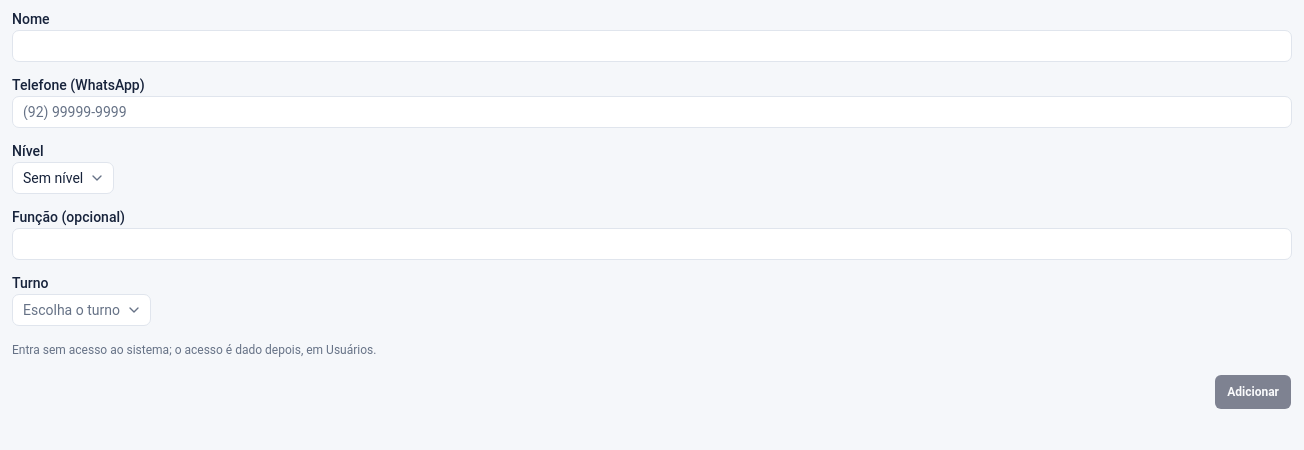
Scenario: NewPersonTab: erros do servidor › erro de telefone mostra a mensagem do servidor no campo
This screenshot has width=1304, height=450.
Type "Beatriz" into the field labelled "Nome".
click(652, 46); type("Beatriz")  # box [12,30,1292,62]
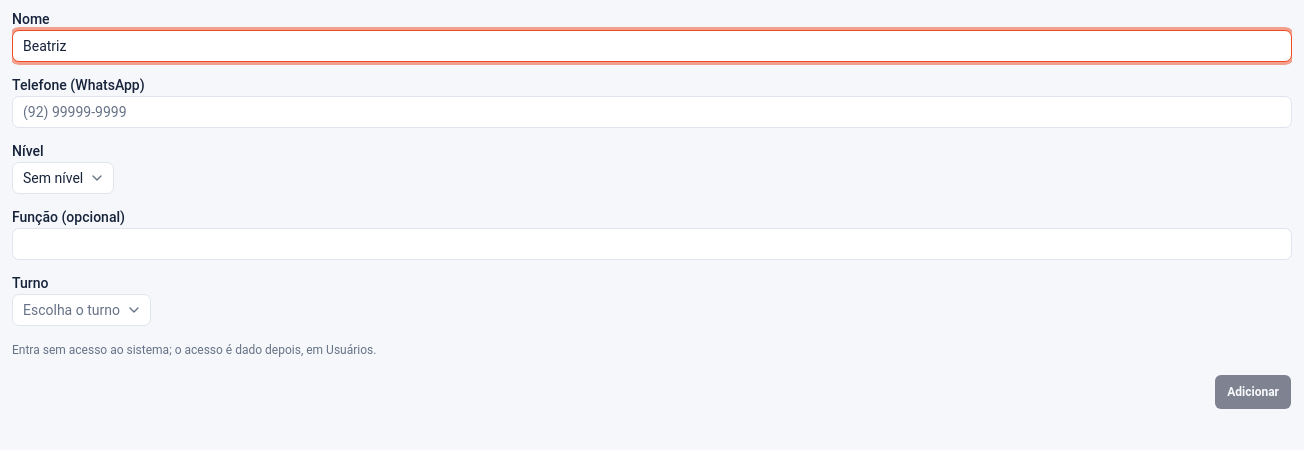
Type "92977776666" into the field labelled "Telefone (WhatsApp)".
click(652, 112); type("92977776666")  # box [12,96,1292,128]
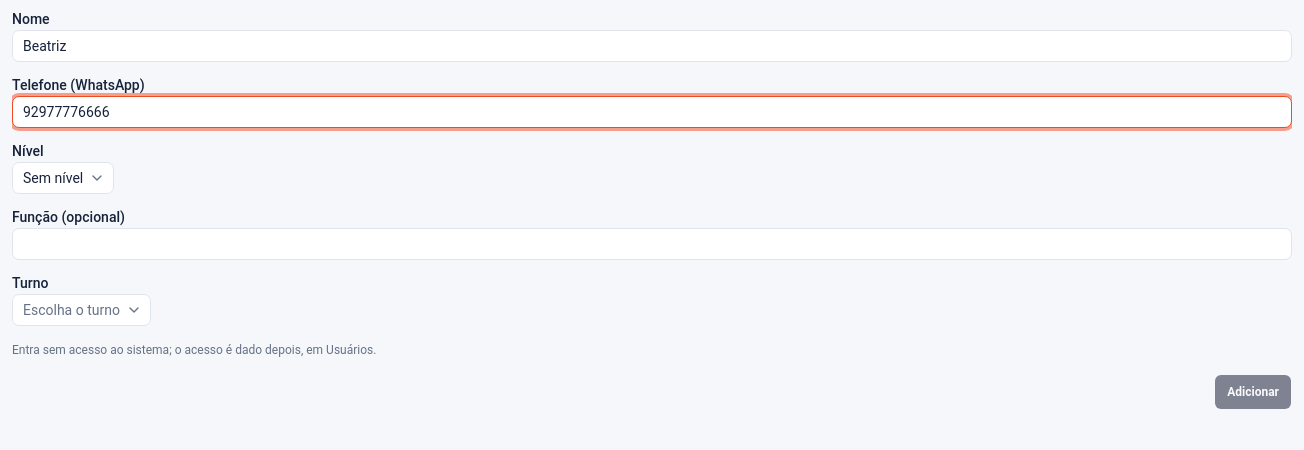
Click the dropdown labelled "turno".
click(81, 310)  # box [12,294,151,326]
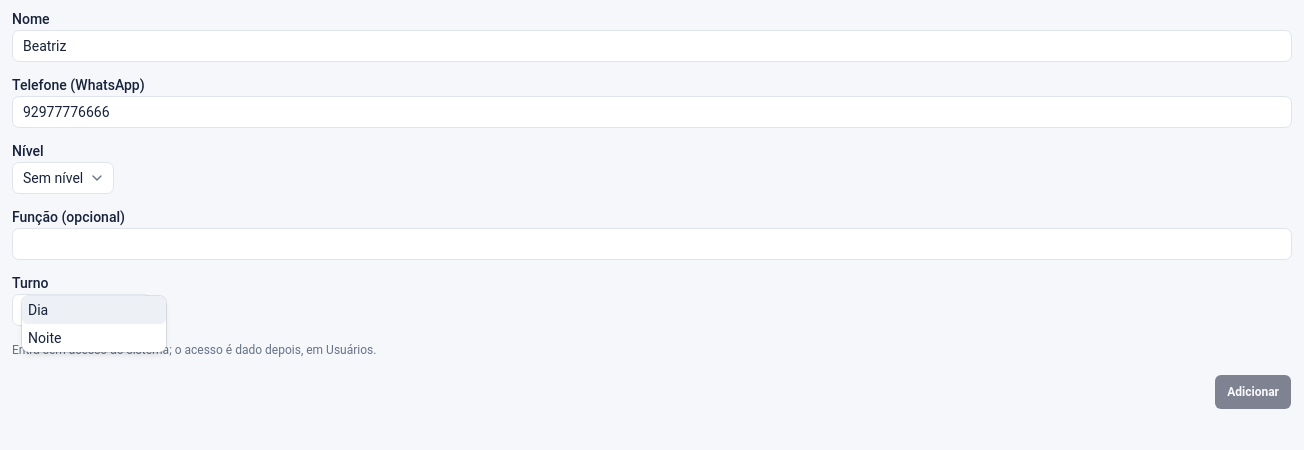
Click the option "Dia".
click(94, 310)  # box [22,296,166,324]
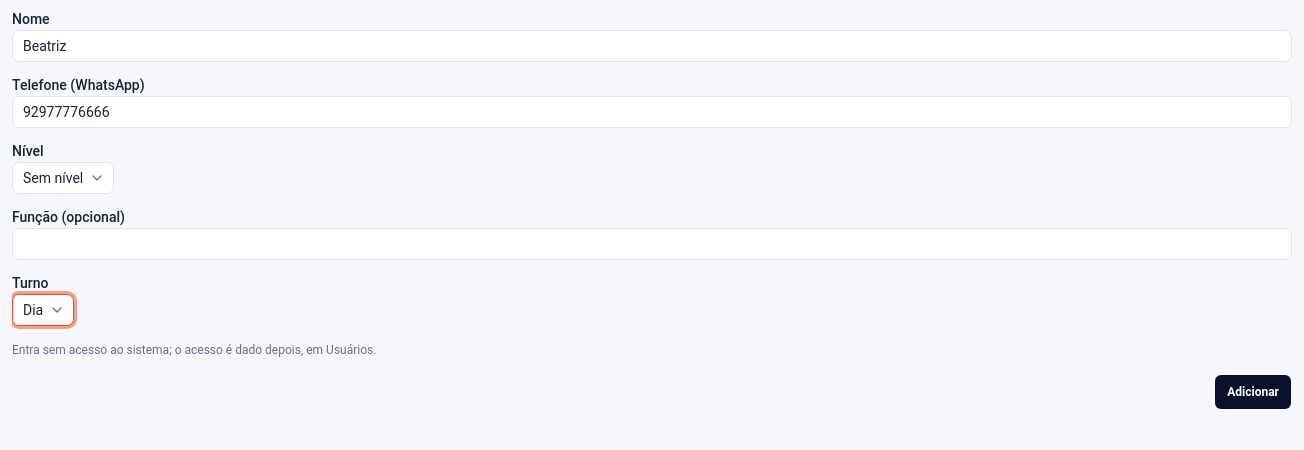
Click the button "Adicionar".
click(1253, 392)  # box [1214,374,1292,410]
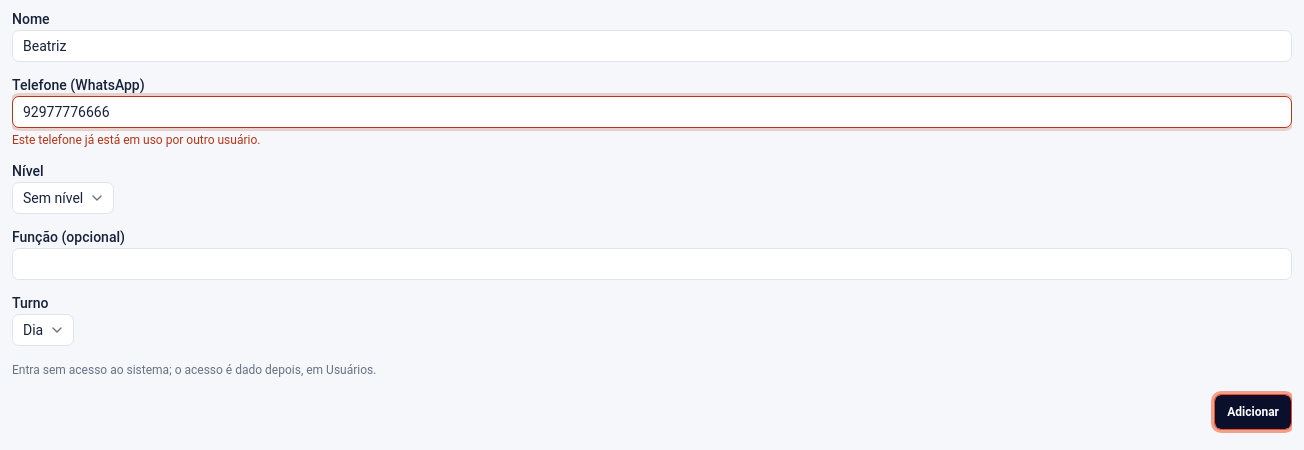
Expected: the text "Este telefone já está em uso por outro usuário." is shown, [12,133,260,147]
